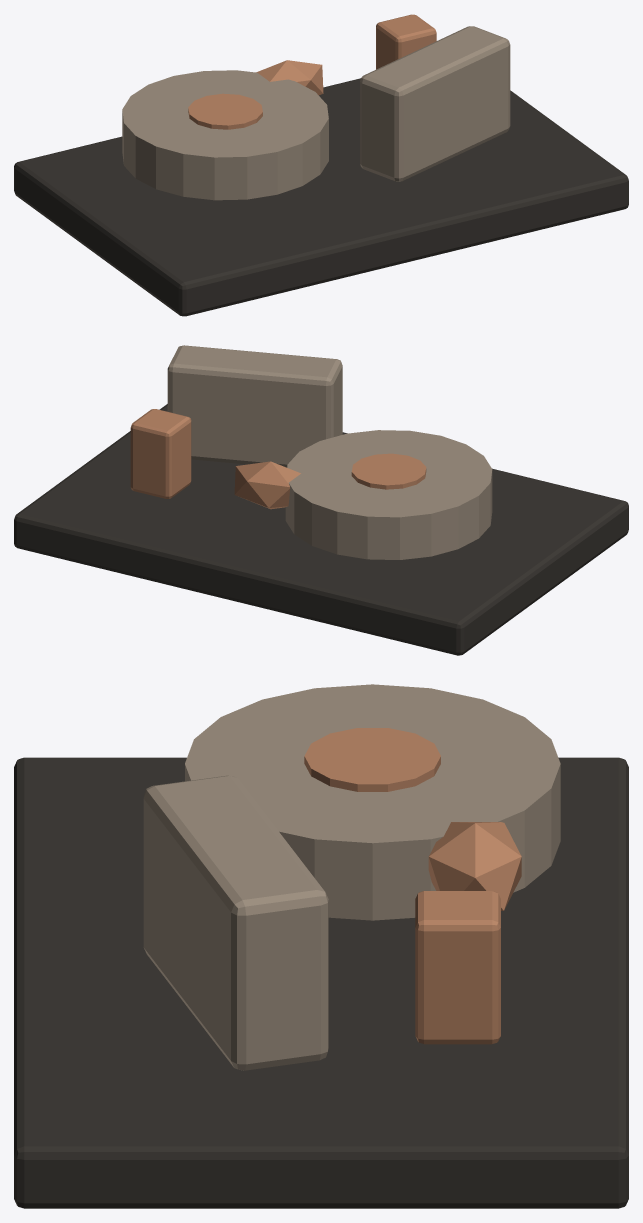
Rendered from castings.glb.
The picture shows the model from 3 angles, top to bottom: view 1: azimuth 30°, elevation 25°; view 2: azimuth 150°, elevation 25°; view 3: azimuth 270°, elevation 25°; orthographic projection. The views are drawn at different scales.
Parts seen in each view (by area): view 1: castings-black-pallet, castings-gear-blank, castings-bracket, castings-lug, castings-bore, castings-sprue; view 2: castings-black-pallet, castings-gear-blank, castings-bracket, castings-lug, castings-sprue, castings-bore; view 3: castings-black-pallet, castings-gear-blank, castings-bracket, castings-lug, castings-bore, castings-sprue.
Boxes of the visible parts, box(x1,y1,x2,y2) form: castings-black-pallet: box(14, 78, 628, 316); castings-gear-blank: box(122, 70, 328, 200); castings-bracket: box(360, 26, 510, 181); castings-lug: box(376, 14, 436, 69); castings-bore: box(188, 93, 262, 129); castings-sprue: box(256, 60, 323, 95); castings-black-pallet: box(14, 404, 628, 655); castings-gear-blank: box(285, 430, 492, 559); castings-bracket: box(167, 345, 342, 467); castings-lug: box(130, 409, 191, 498); castings-sprue: box(234, 461, 300, 509); castings-bore: box(351, 453, 426, 489); castings-black-pallet: box(14, 757, 628, 1208); castings-gear-blank: box(185, 684, 560, 920); castings-bracket: box(143, 775, 328, 1070); castings-lug: box(415, 891, 500, 1044); castings-bore: box(304, 728, 440, 791); castings-sprue: box(428, 822, 521, 910).
Size of the model in its own units: 1.18 by 0.354 by 0.7724.
